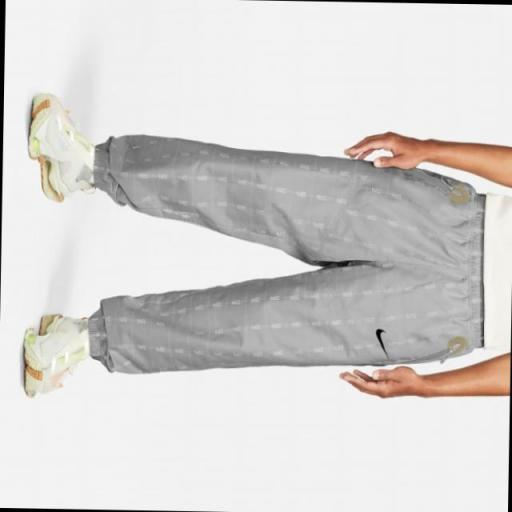Nike: (372, 322, 393, 360)
